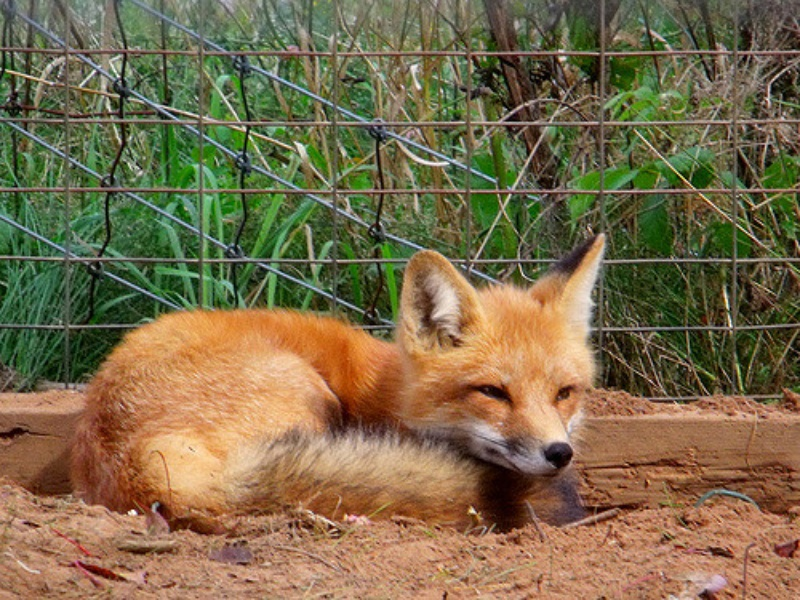fox: (60, 225, 613, 543)
